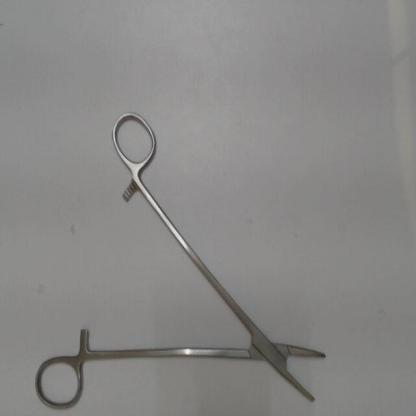8 Mayo Needle Holder: (30, 101, 344, 416)
